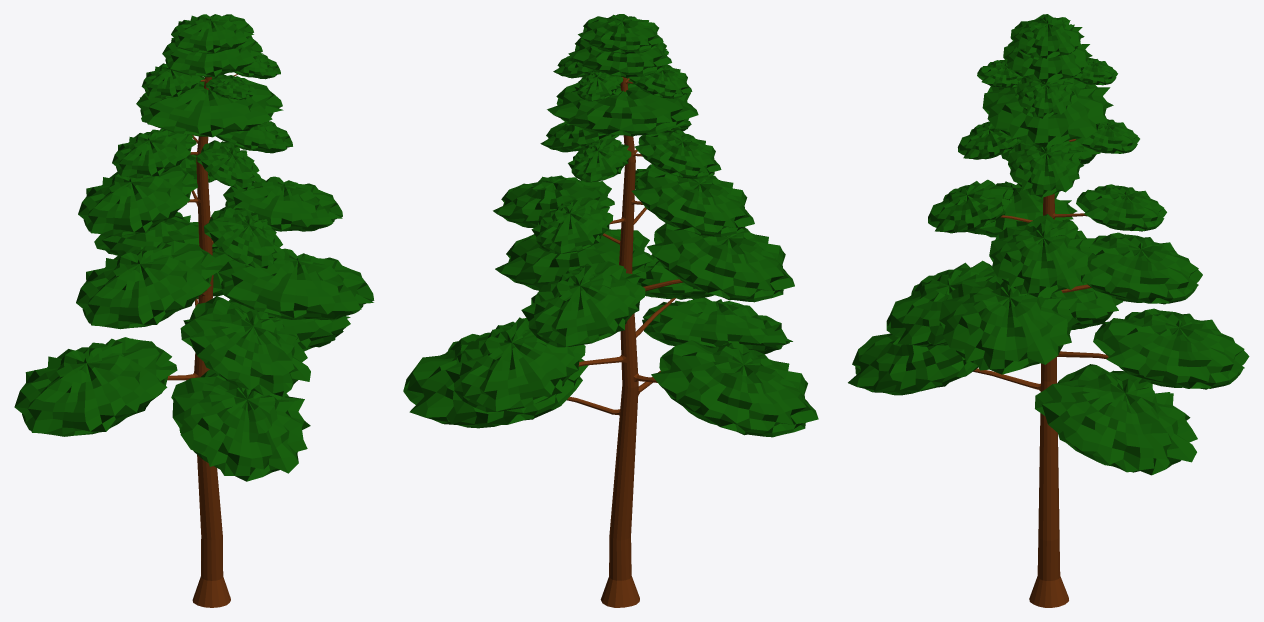
File: tree_1.fbx
3 views of the same model, side by side, from view 1: azimuth 30°, elevation 25°; view 2: azimuth 150°, elevation 25°; view 3: azimuth 270°, elevation 25° (orthographic).
Visible parts, largest first — view 1: Leaves, Trunk; view 2: Leaves, Trunk; view 3: Leaves, Trunk.
Boxes of the visible parts, left/top/right/bottom form: Leaves: left=14, top=14, right=374, bottom=481; Trunk: left=167, top=74, right=237, bottom=607; Leaves: left=403, top=14, right=818, bottom=437; Trunk: left=567, top=77, right=683, bottom=607; Leaves: left=848, top=14, right=1249, bottom=475; Trunk: left=973, top=139, right=1108, bottom=607.
Size of the model in its own units: 3468 by 5357 by 3384.
